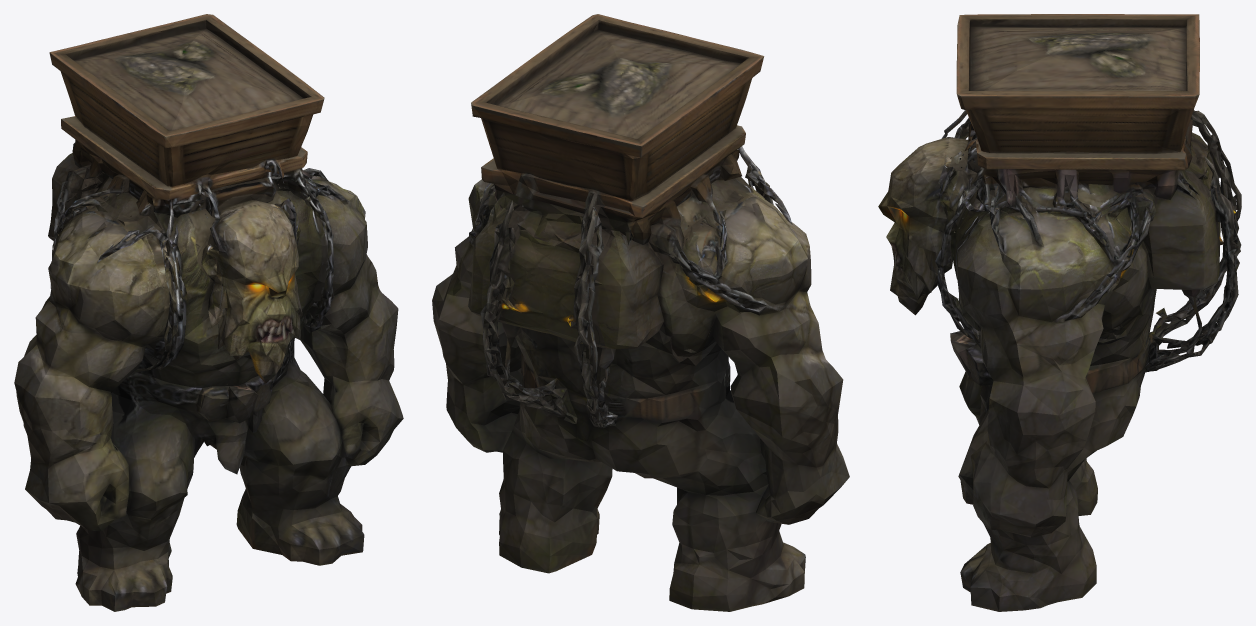
File: The_Stone_Guardian_0416171301_texture.fbx
The picture shows the model from 3 angles, left to right: view 1: azimuth 30°, elevation 25°; view 2: azimuth 150°, elevation 25°; view 3: azimuth 270°, elevation 25°; orthographic projection. The views are drawn at different scales.
Parts seen in each view (by area): view 1: temp; view 2: temp; view 3: temp.
Boxes of the visible parts, left/top/right/bottom form: temp: left=14, top=14, right=403, bottom=611; temp: left=432, top=14, right=849, bottom=611; temp: left=878, top=14, right=1241, bottom=611.
Bounding box in the file's own units: 160 × 200 × 133.
Materials: 1 (1 with a texture image).
